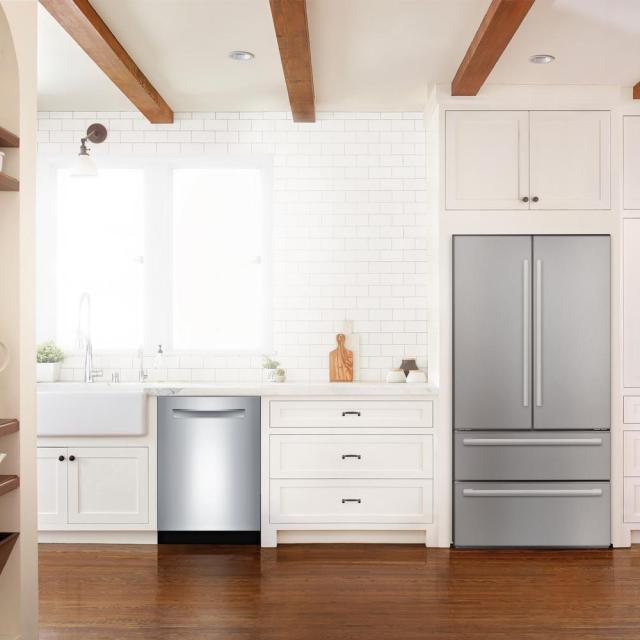dishwasher: (149, 388, 268, 552)
